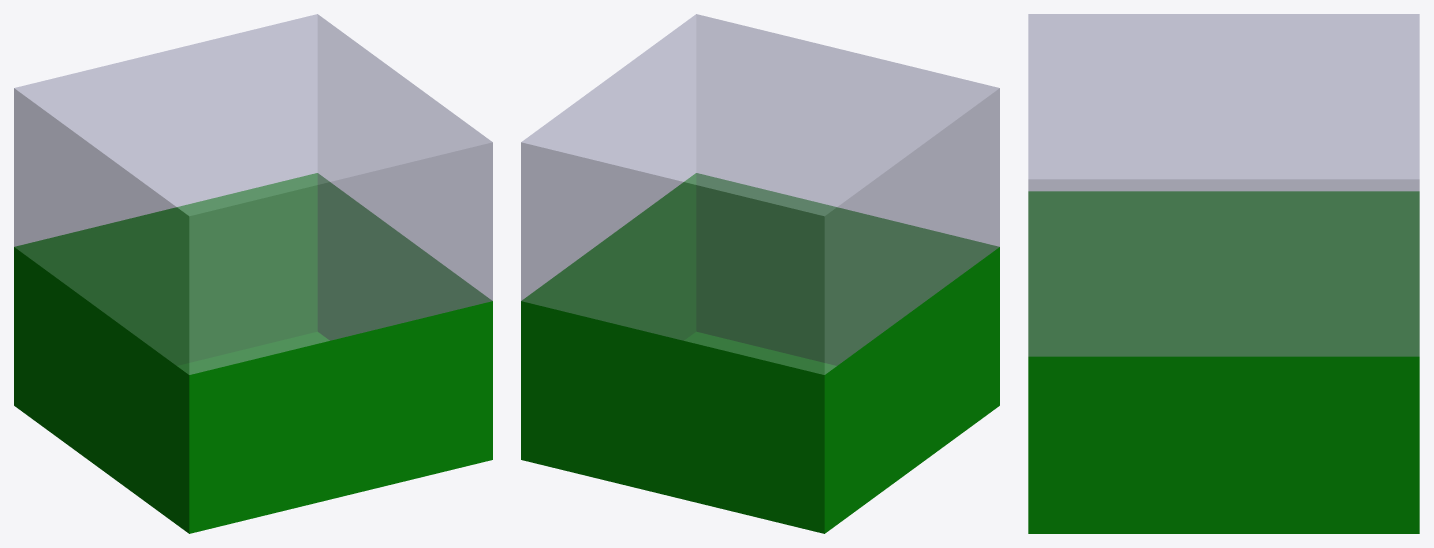
File: Кубик.obj
3 views of the same model, side by side, from view 1: azimuth 30°, elevation 25°; view 2: azimuth 150°, elevation 25°; view 3: azimuth 270°, elevation 25° (orthographic). The views are drawn at different scales.
Size of the model in its own units: 20 by 20 by 20.
